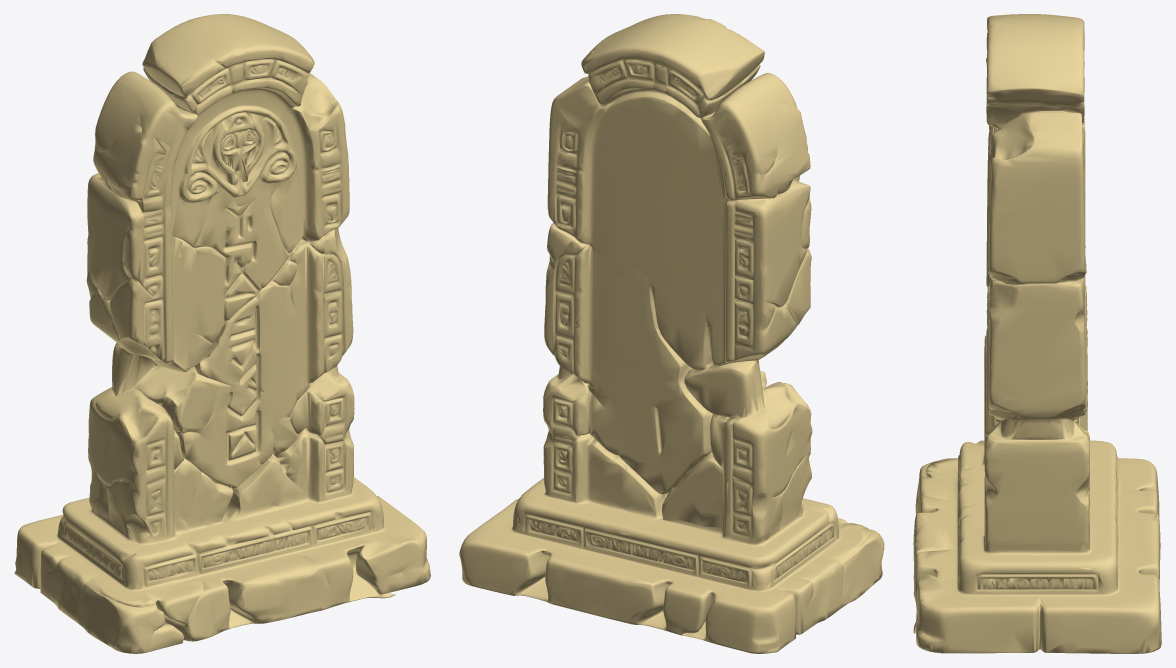
The picture shows the model from 3 angles, left to right: view 1: azimuth 30°, elevation 25°; view 2: azimuth 150°, elevation 25°; view 3: azimuth 270°, elevation 25°; orthographic projection.
Visible parts, largest first — view 1: node_0; view 2: node_0; view 3: node_0.
Boxes of the visible parts, bbox=[...] form: node_0: bbox=[14, 14, 430, 653]; node_0: bbox=[459, 14, 884, 653]; node_0: bbox=[913, 14, 1161, 653].
Bounding box in the file's own units: 0.6007 × 0.9933 × 0.404.
